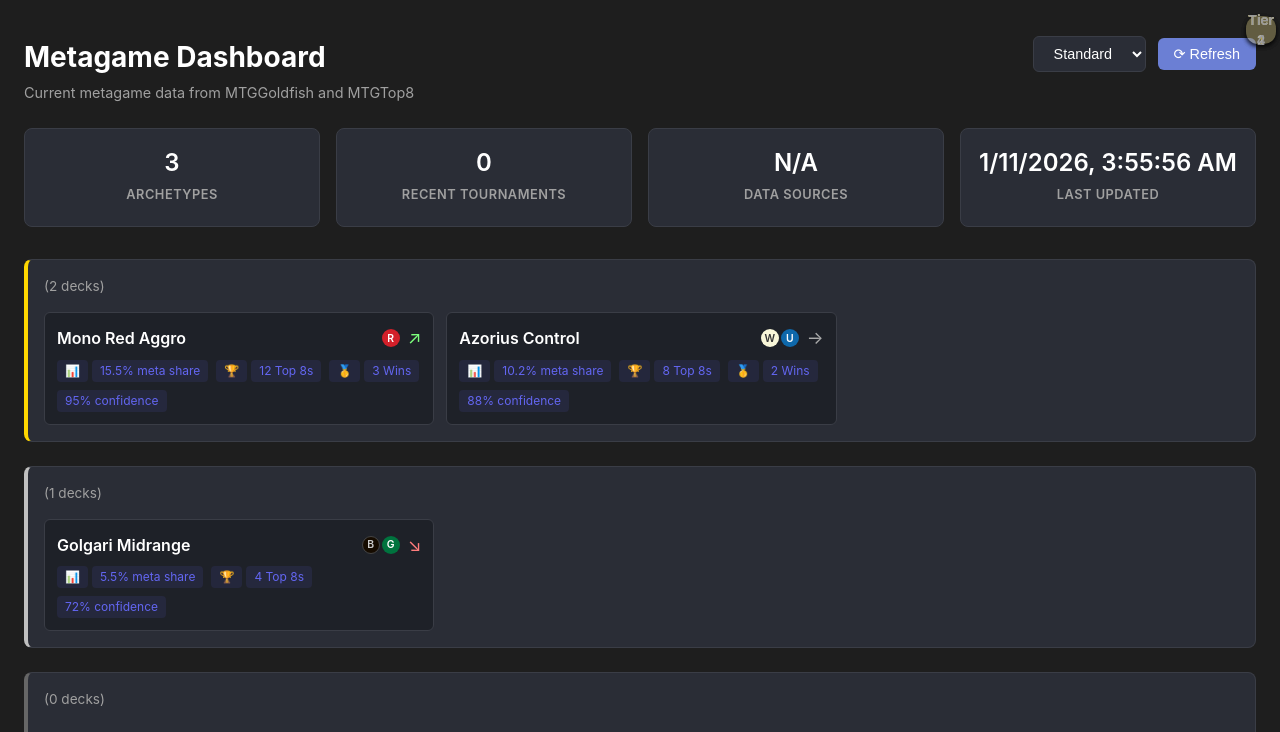
Test case: Meta › refresh functionality › updates data after refresh
The image size is (1280, 732).
Expected: the text "Mono Red Aggro" is shown, [57, 328, 186, 348]
Click the button "⟳ Refresh" at (1207, 54), box [1158, 38, 1256, 70]
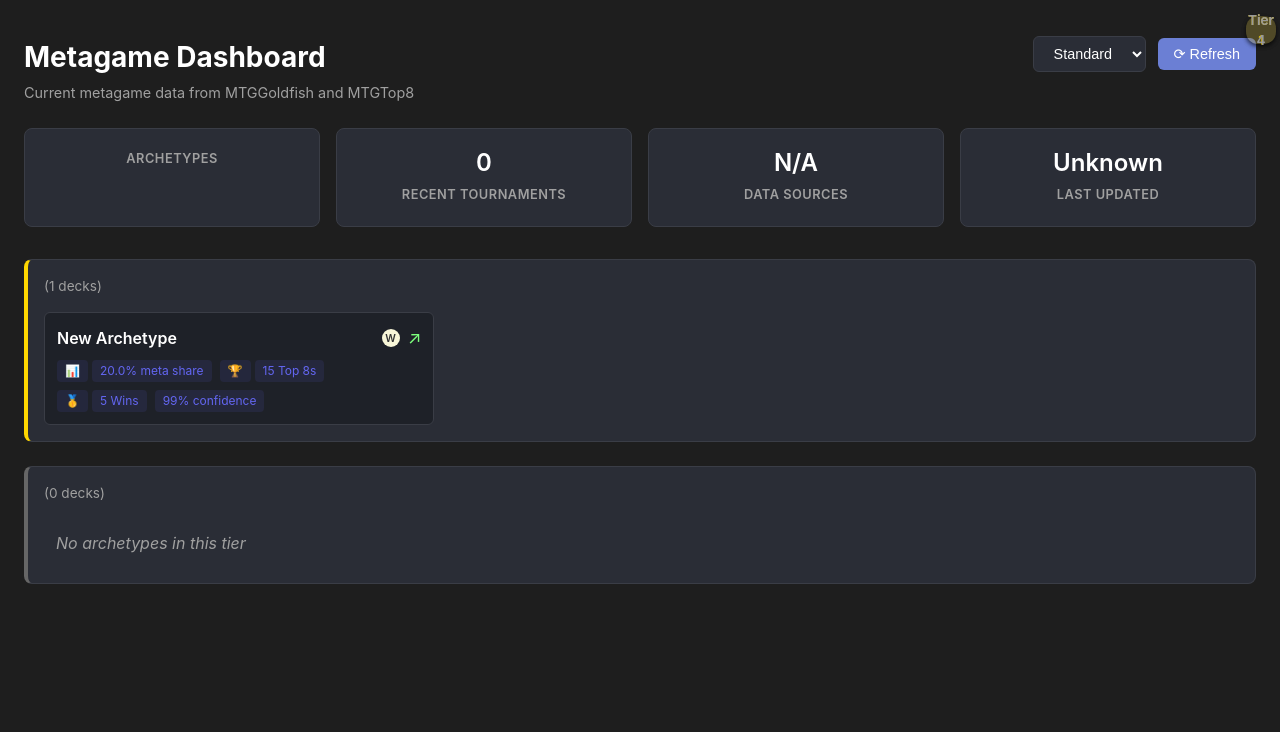
Expected: the text "New Archetype" is shown, [57, 328, 177, 348]
